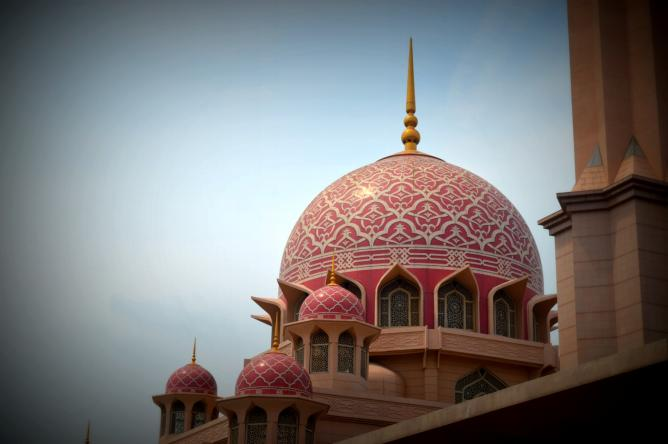Mosque: (251, 37, 556, 381)
